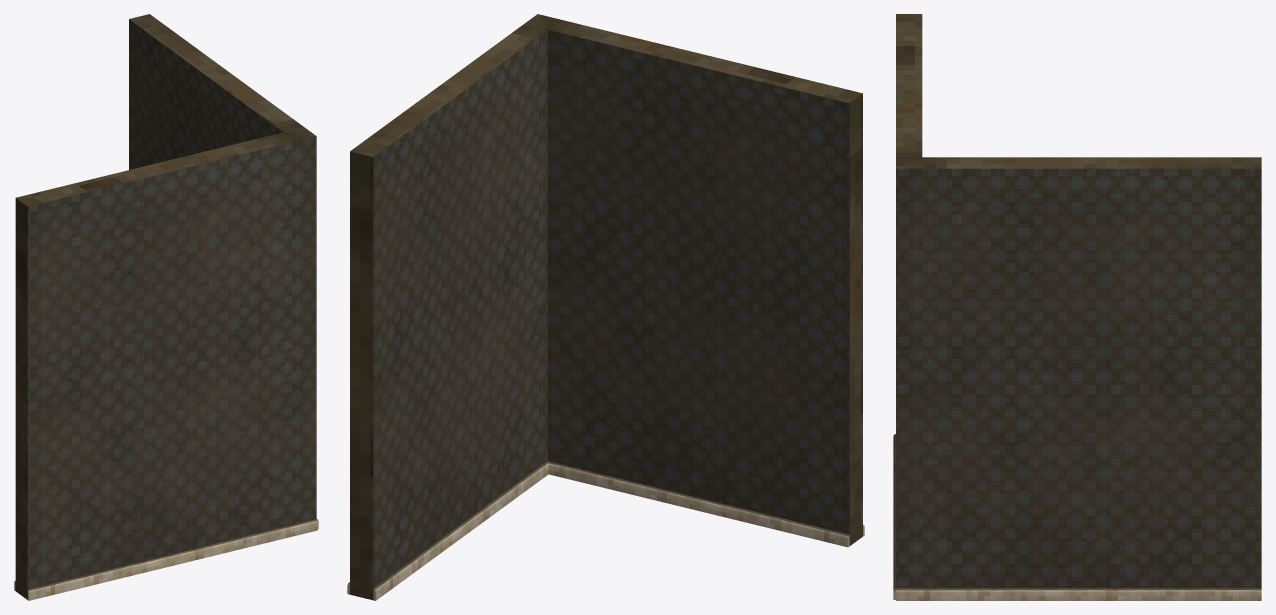
Rendered from Wall_Corner_IntInt.glb.
3 renders of one model, left to right at view 1: azimuth 30°, elevation 25°; view 2: azimuth 150°, elevation 25°; view 3: azimuth 270°, elevation 25°, orthographic. The views are drawn at different scales.
Visible parts, largest first — view 1: Wall_Corner_IntInt; view 2: Wall_Corner_IntInt; view 3: Wall_Corner_IntInt.
Part boxes in pixels (x1,y1,x2,y2): Wall_Corner_IntInt: (14, 14, 318, 600); Wall_Corner_IntInt: (347, 14, 864, 600); Wall_Corner_IntInt: (893, 14, 1261, 600).
Bounding box in the file's own units: 2.09 × 2.7 × 2.09.
1 material, 1 textured.
